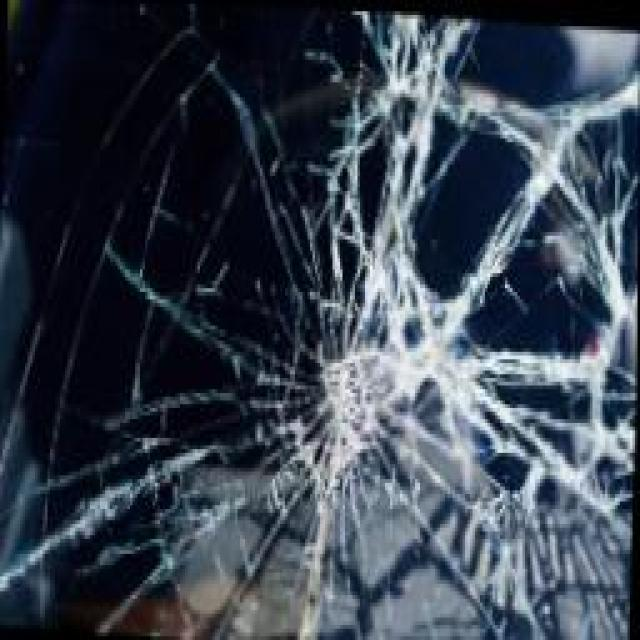Windshield: (2, 0, 640, 640)
